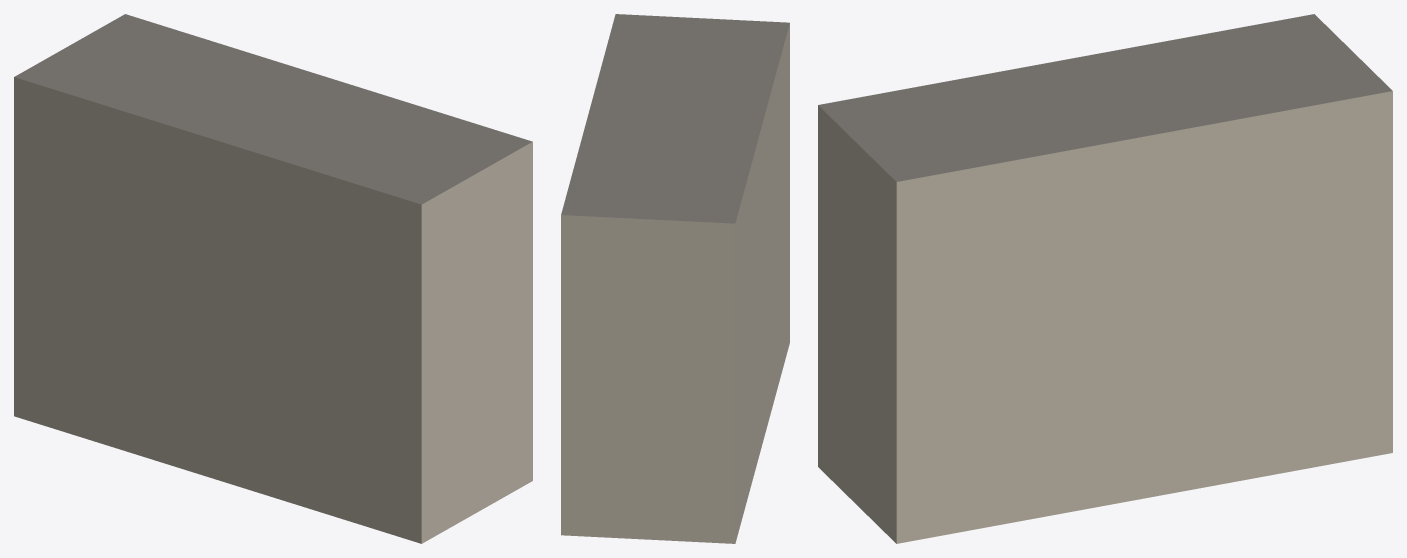
The picture shows the model from 3 angles, left to right: view 1: azimuth 30°, elevation 25°; view 2: azimuth 150°, elevation 25°; view 3: azimuth 270°, elevation 25°; orthographic projection. The views are drawn at different scales.
Visible parts, largest first — view 1: HP-w446934369; view 2: HP-w446934369; view 3: HP-w446934369.
Part boxes in pixels (x1,y1,x2,y2): HP-w446934369: [14, 14, 532, 543]; HP-w446934369: [561, 14, 789, 543]; HP-w446934369: [818, 14, 1392, 543].
Size of the model in its own units: 17.92 by 18 by 25.91.
